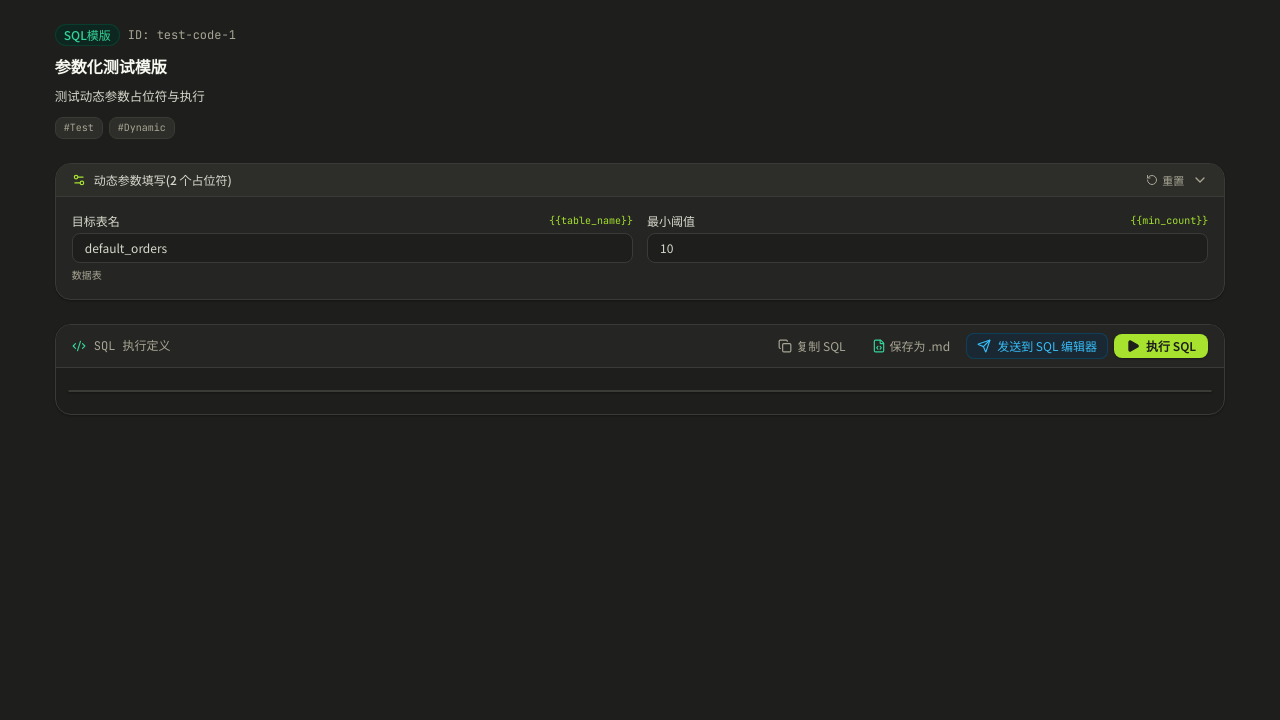
Test: CodeAssetDetail › displays error message gracefully when query fails
Click the button "执行 SQL" at [1161, 346], box [1114,334,1208,358]
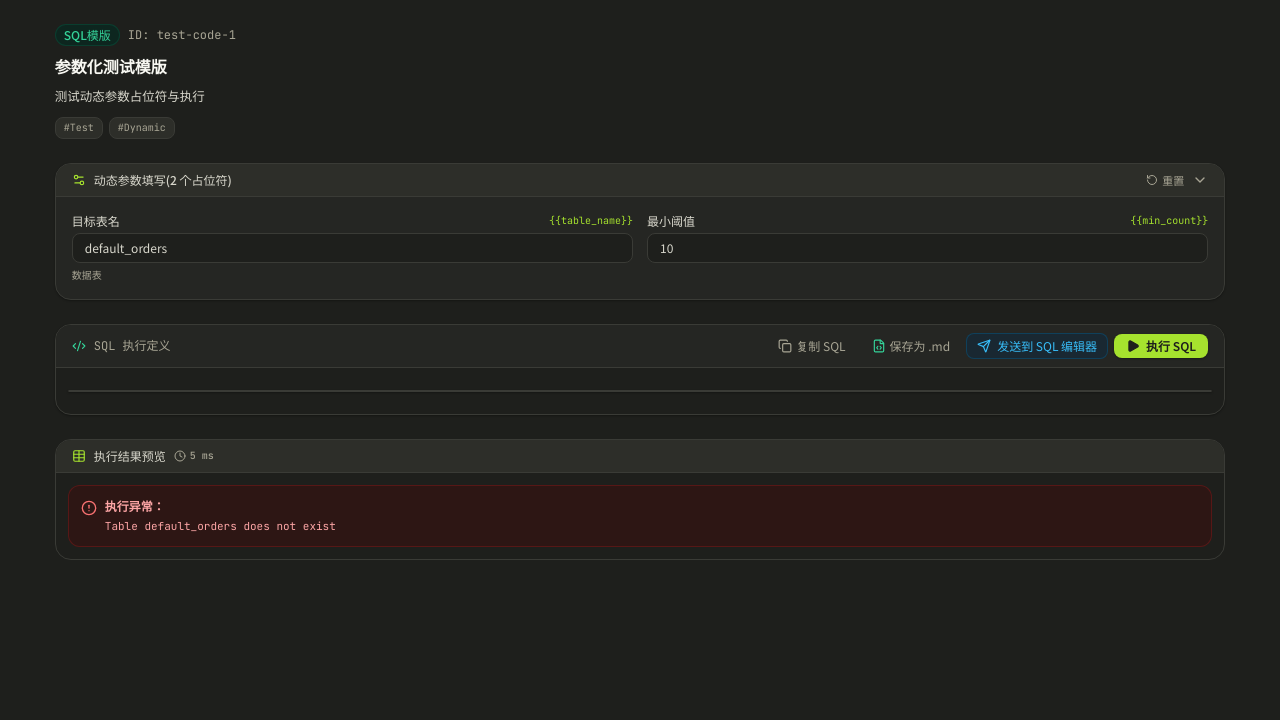
Expected: the text "Table default_orders does not exist" is shown, [105,518,336,534]
